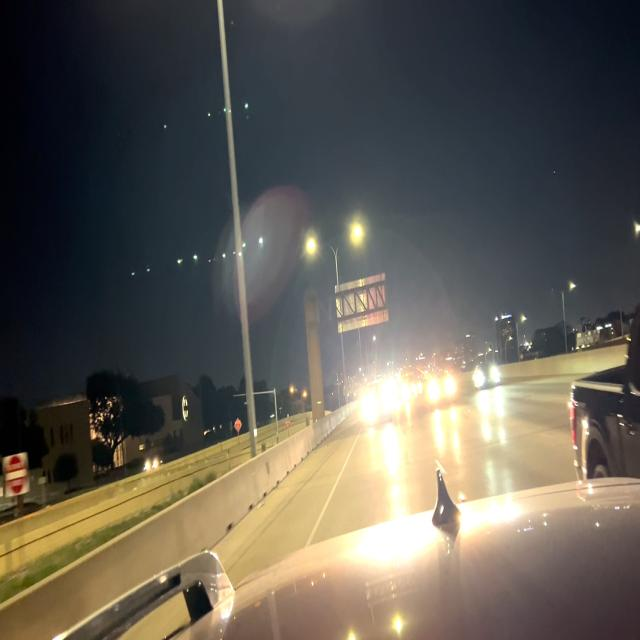back-of-sign: (335, 273, 389, 334)
